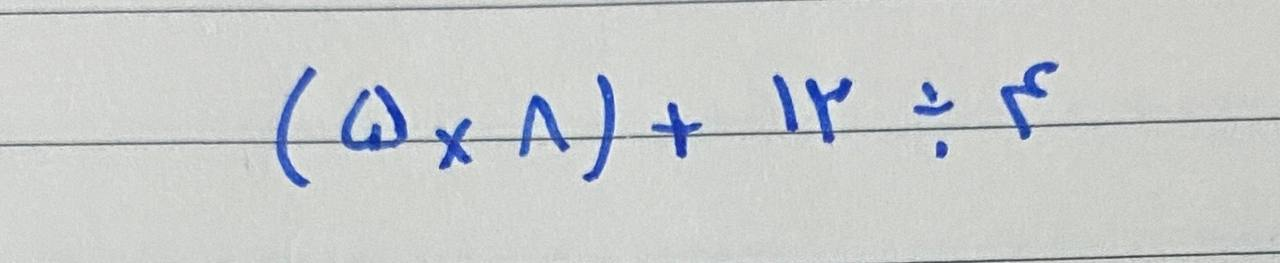character: (342, 86, 409, 150), (1001, 62, 1057, 135), (280, 66, 312, 187), (807, 74, 851, 144), (521, 93, 569, 155), (588, 77, 617, 179), (652, 101, 704, 156), (916, 88, 956, 157), (435, 122, 470, 167), (775, 74, 799, 138)
